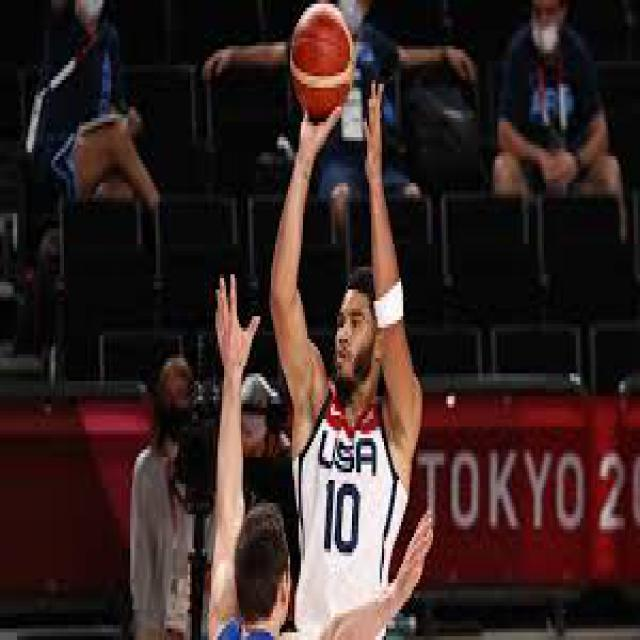basketball: (291, 2, 353, 124)
